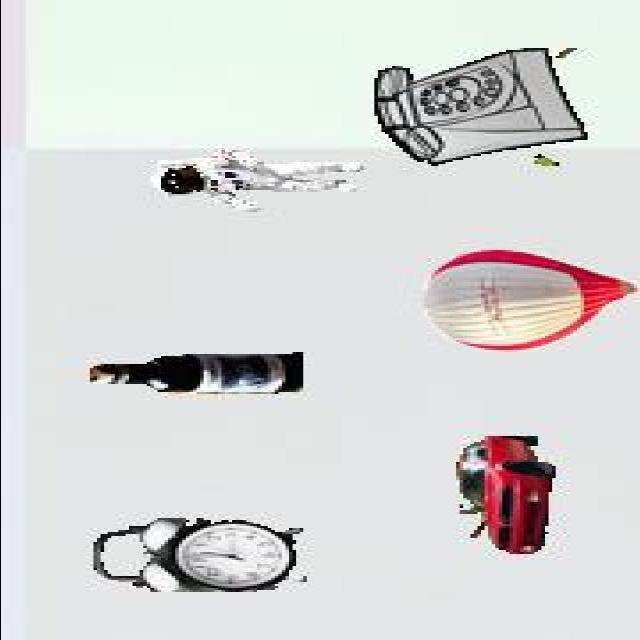Other Objects: (371, 46, 588, 166), (420, 248, 634, 352), (87, 518, 306, 594), (147, 148, 364, 213), (86, 352, 302, 394)
